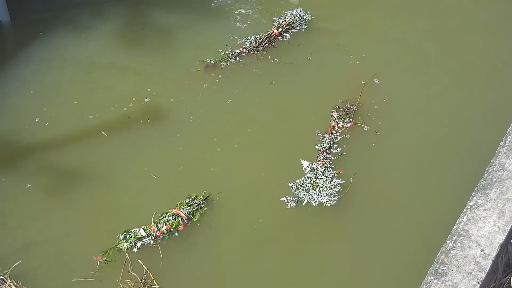twig: (276, 69, 394, 211), (180, 5, 315, 85), (86, 186, 219, 266), (108, 254, 166, 286), (0, 258, 26, 288)
